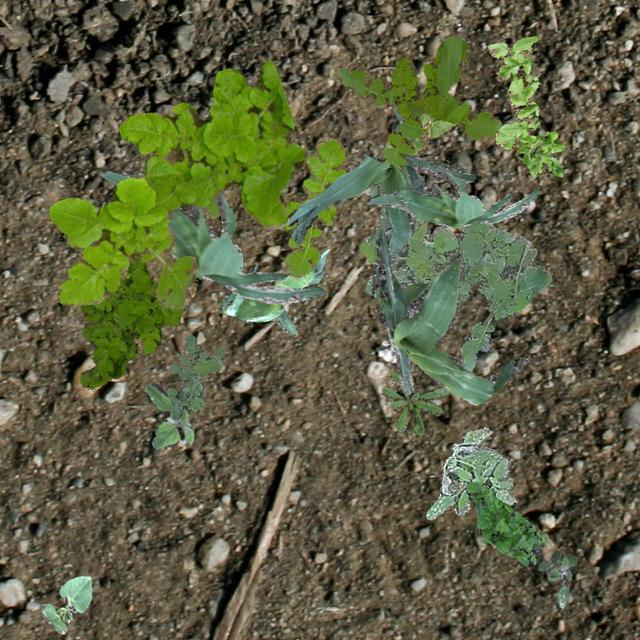crop: (286, 107, 474, 296), (98, 168, 324, 304), (372, 228, 528, 404), (366, 168, 538, 228), (220, 248, 328, 334), (382, 111, 454, 152), (40, 576, 90, 632)
weed: (48, 56, 304, 308), (358, 185, 550, 372), (336, 36, 500, 168), (78, 258, 182, 388), (486, 34, 564, 178), (278, 136, 346, 276), (426, 426, 516, 518), (466, 480, 546, 564), (166, 334, 226, 418), (380, 369, 450, 434), (144, 382, 194, 448), (536, 550, 576, 608), (204, 195, 218, 218)
